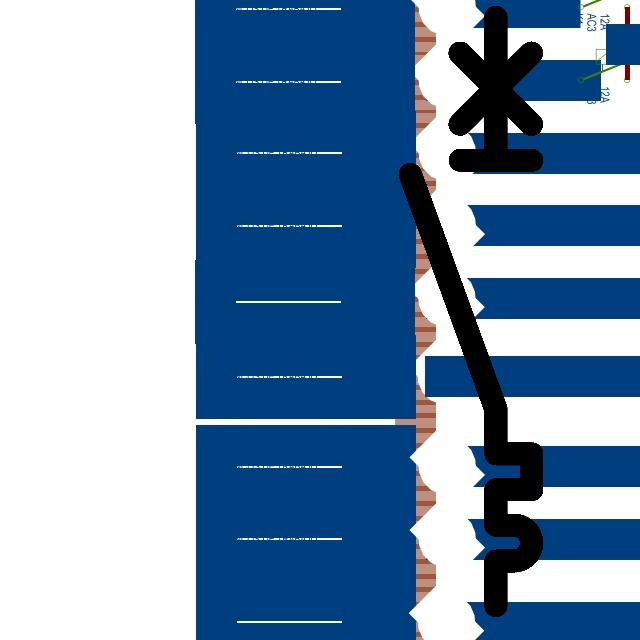interruptor_termomagnetico: (395, 2, 547, 621)
